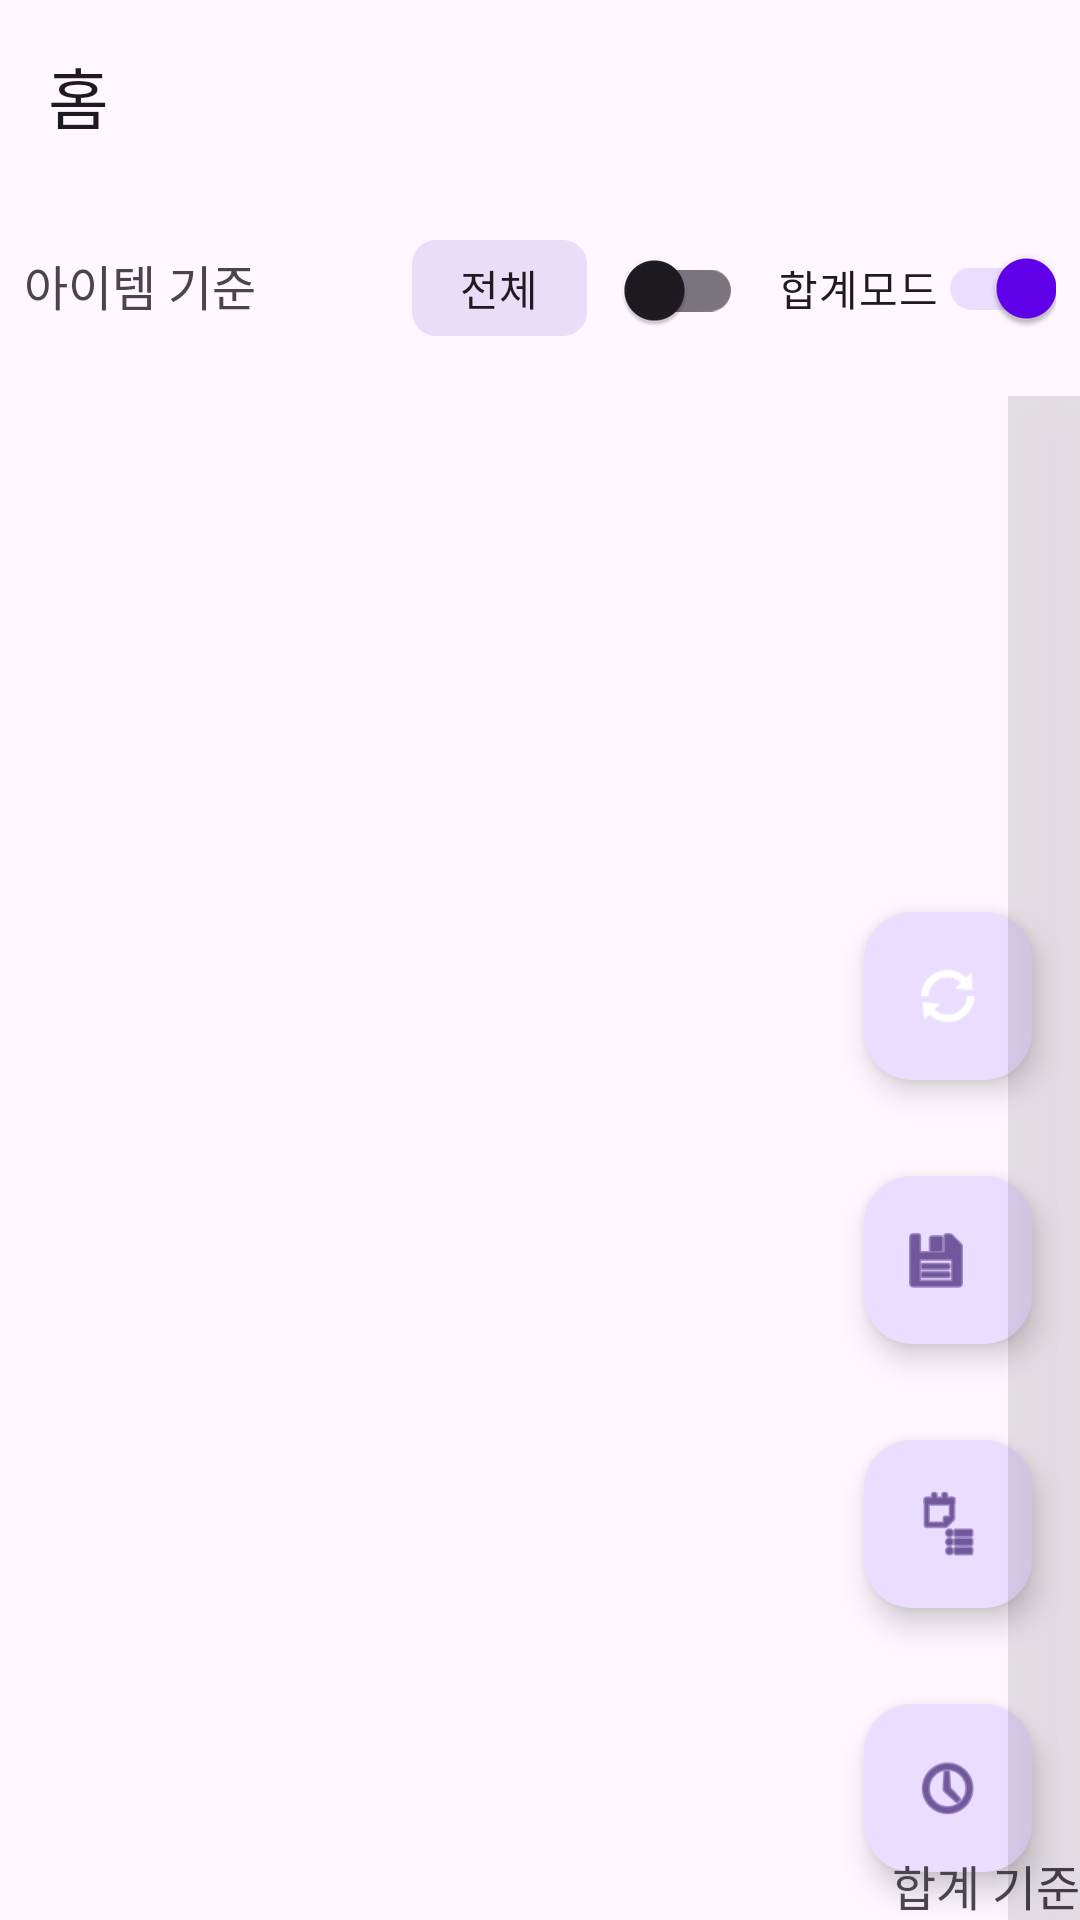

Icons on this 1080 × 1920 Android screen, each with the point to tap as point (x, y):
recent history: point (948, 1788)
save: point (948, 1260)
초기화: point (948, 996)
